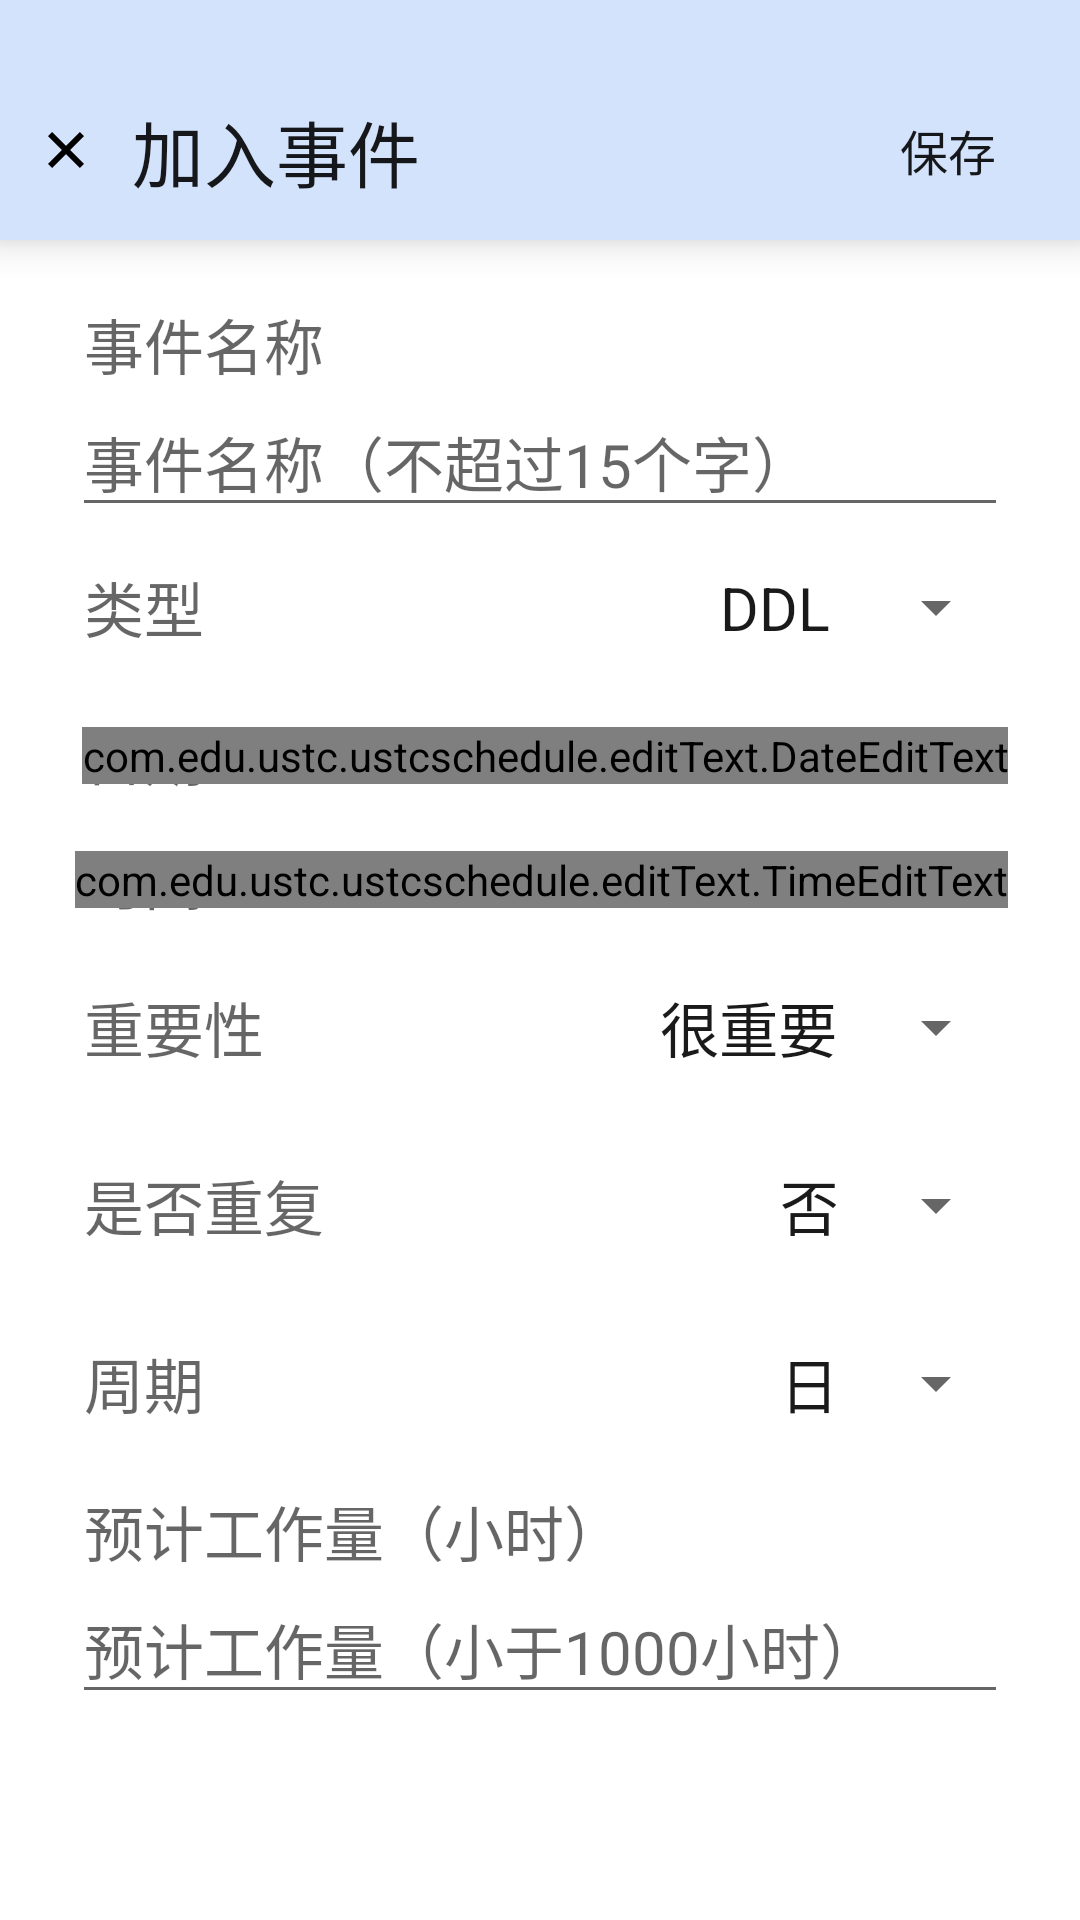

Icons on this 1080x1920 Android screen, each with the point to tap as (x,y):
取消: (66,150)
